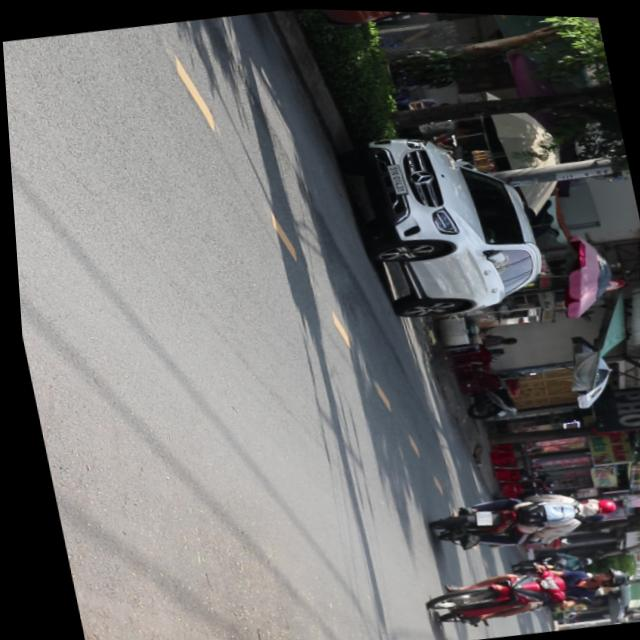helmet: (582, 562, 623, 587), (577, 491, 611, 514)
licenseplate: (412, 547, 631, 636), (417, 475, 618, 557)
nohelmet: (468, 507, 487, 524)
